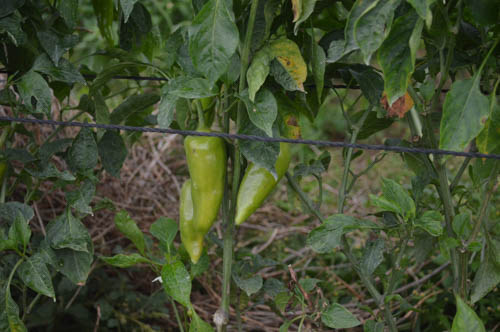ChiliPepper: (233, 115, 293, 232), (183, 131, 232, 237), (175, 178, 210, 269)
